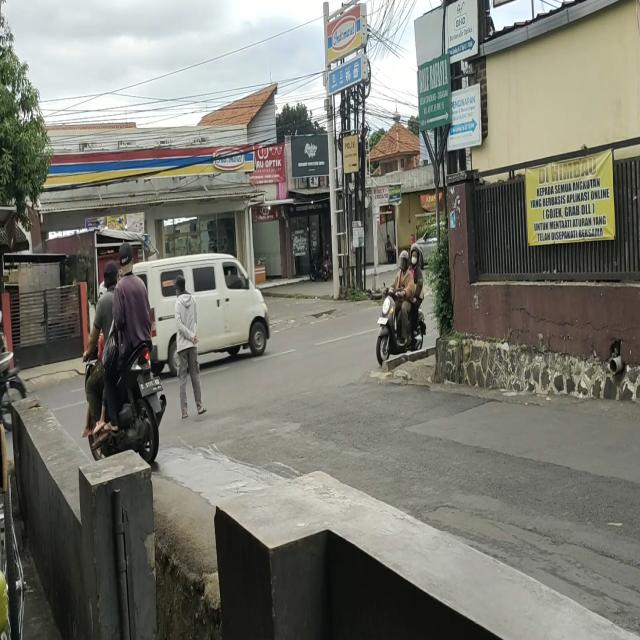helmet: (410, 244, 420, 266), (399, 251, 409, 268)
no-helmet: (118, 244, 133, 275), (105, 264, 118, 286)
